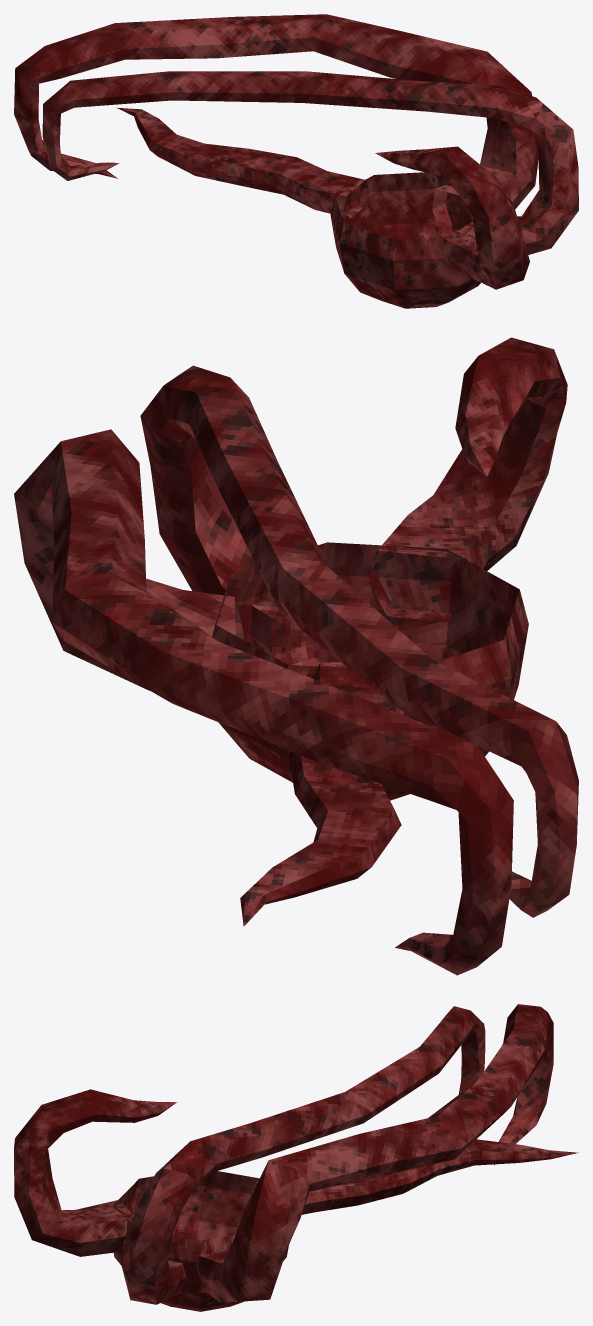
The model's file is pustule_grp_8.fbx.
The picture shows the model from 3 angles, top to bottom: view 1: azimuth 30°, elevation 25°; view 2: azimuth 150°, elevation 25°; view 3: azimuth 270°, elevation 25°; orthographic projection. The views are drawn at different scales.
Parts seen in each view (by area): view 1: tendril_14, tendril_15, bubble_6, tendril_13, tendril_12; view 2: tendril_14, tendril_15, tendril_13, bubble_6, tendril_12; view 3: tendril_14, tendril_15, tendril_13, bubble_6, tendril_12.
Boxes of the visible parts, x1,y1,x2,y2 form: tendril_14: (14,14,538,237); tendril_15: (42,71,578,254); bubble_6: (330,172,480,308); tendril_13: (375,146,529,289); tendril_12: (116,107,368,218); tendril_14: (14,429,513,975); tendril_15: (140,365,578,917); tendril_13: (366,337,567,622); bubble_6: (212,542,528,800); tendril_12: (240,662,404,926); tendril_14: (196,1004,553,1302); tendril_15: (121,1006,485,1304); tendril_13: (14,1089,176,1256); bubble_6: (113,1171,288,1311); tendril_12: (252,1139,578,1214).
Size of the model in its own units: 5.84 by 2.66 by 7.08.
